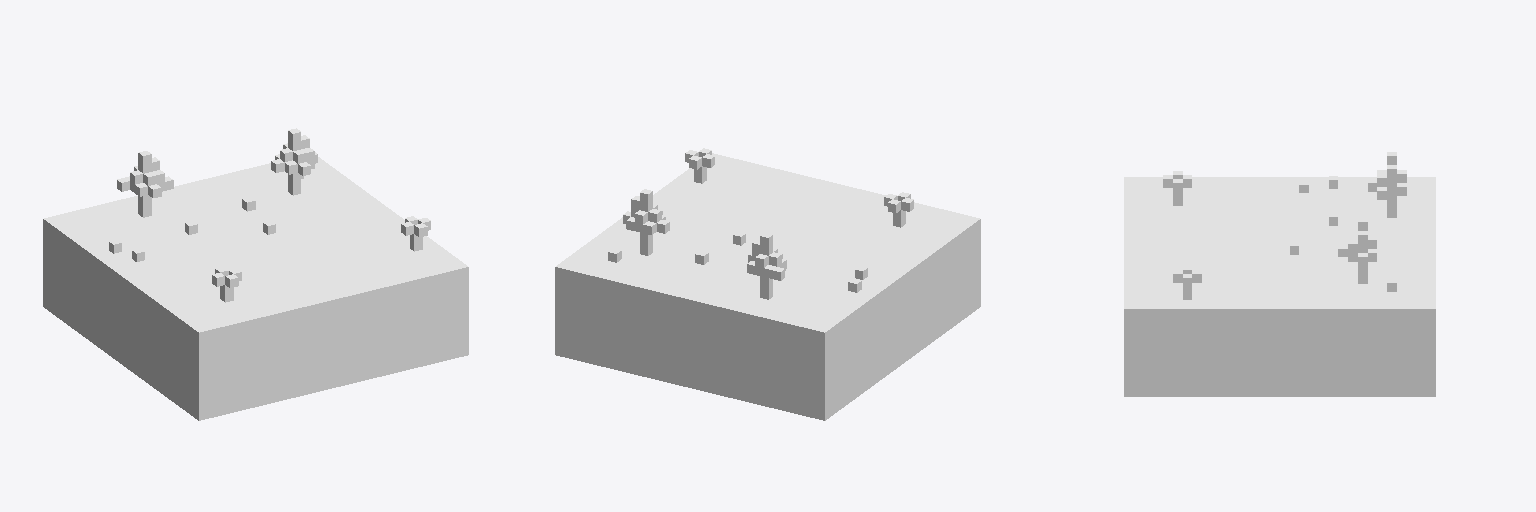
The model's file is Overworld_Beach_13.obj.
3 renders of one model, left to right at view 1: azimuth 30°, elevation 25°; view 2: azimuth 150°, elevation 25°; view 3: azimuth 270°, elevation 25°, orthographic.
Parts seen in each view (by area): view 1: object 1; view 2: object 1; view 3: object 1.
Part boxes in pixels (x1,y1,x2,y2): object 1: (43,128,468,420); object 1: (555,148,980,420); object 1: (1124,152,1435,396).
Size of the model in its own units: 3.2 by 1.7 by 3.2.